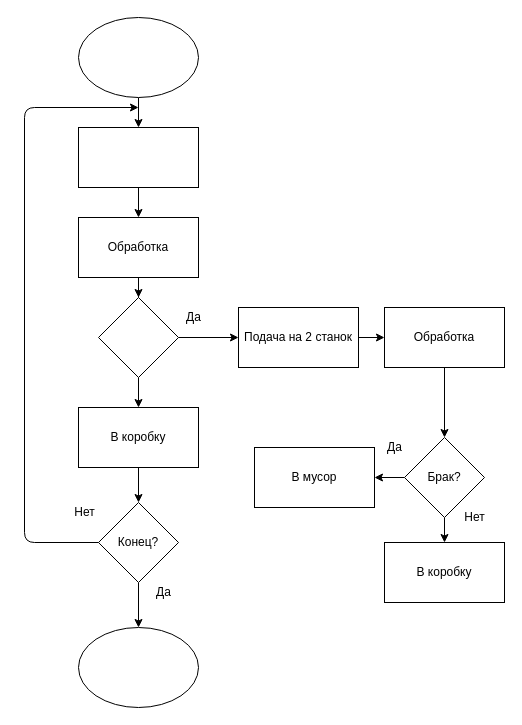
This 522x725 diagram has some shape labels left out. Each missing label, with the centre of its shape:
"Брак" goes at [138,337].
"Конец" goes at [138,667].
"Начало" goes at [138,57].
"Подача на 1 станок" goes at [138,157].
